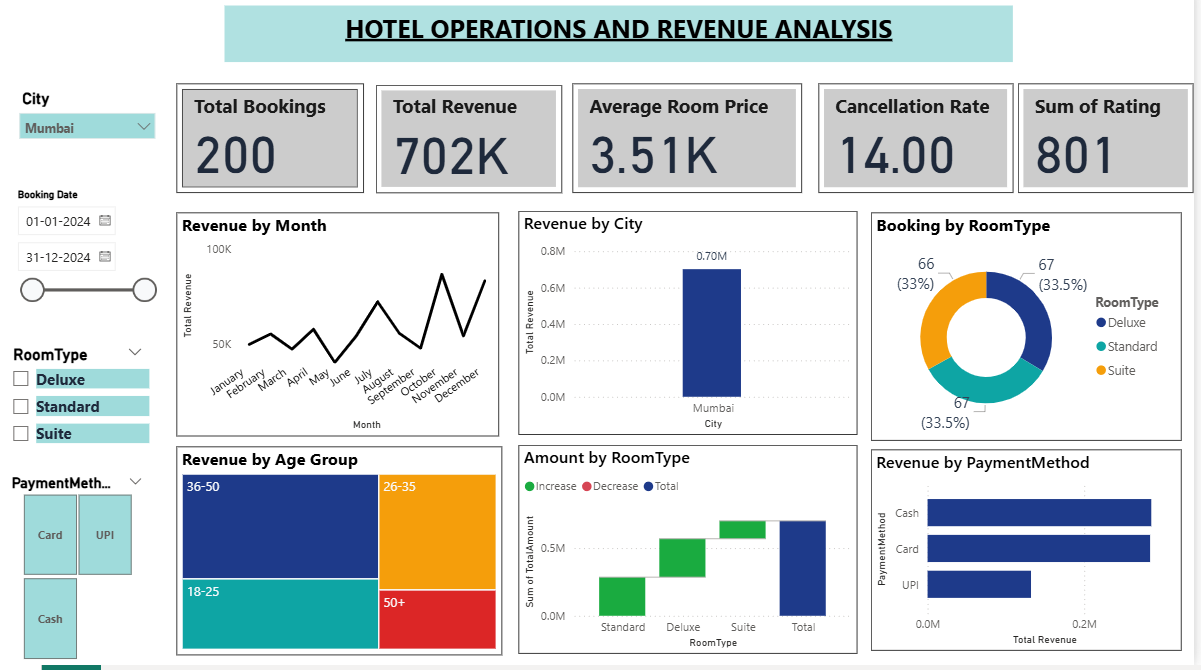

This screenshot's page, from the dashboard's own definition file:
{"tool":"powerbi","page":{"name":"Page 1","canvas":[1280,720],"ordinal":0},"visuals":[{"type":"cardVisual","fields":{"Data":["hoteldata.Total Bookings"]},"box":[202,103.4,198.8,116.1],"z":0},{"type":"cardVisual","fields":{"Data":["hoteldata.Total Revenue"]},"box":[413.6,105,197.2,114.5],"z":1000},{"type":"cardVisual","fields":{"Data":["hoteldata.Average Room Price"]},"box":[621.9,103.4,243.4,116.1],"z":2000},{"type":"cardVisual","fields":{"Data":["hoteldata.Cancellation Rate"]},"box":[882.8,103.4,206.8,116.1],"z":3000},{"type":"clusteredColumnChart","title":" Revenue by City","fields":{"Category":["hoteldata.City"],"Y":["hoteldata.Total Revenue"]},"box":[564.7,238.6,359.5,237],"z":4000},{"type":"donutChart","title":" Booking by RoomType","fields":{"Category":["hoteldata.RoomType"],"Y":["CountNonNull(hoteldata.BookingID)"]},"box":[938.5,240.2,329.3,241.8],"z":5000},{"type":"clusteredBarChart","title":"Revenue by PaymentMethod","fields":{"Category":["hoteldata.PaymentMethod"],"Y":["hoteldata.Total Revenue"]},"box":[938.5,491.5,329.3,213.1],"z":6000},{"type":"slicer","fields":{"Values":["hoteldata.RoomType"]},"box":[15.9,375.4,162.2,124.1],"z":7000},{"type":"slicer","fields":{"Values":["hoteldata.Booking Date"]},"box":[20.7,210,168.6,147.9],"z":8000},{"type":"slicer","fields":{"Values":["hoteldata.City"]},"box":[25.7,104.2,164.1,79.9],"z":9000},{"type":"slicer","fields":{"Values":["hoteldata.PaymentMethod"]},"box":[14.3,512.2,163.8,208.4],"z":10000},{"type":"treemap","title":" Revenue by Age Group","fields":{"Group":["hoteldata.Age Group"],"Values":["hoteldata.Total Revenue"]},"box":[202,488.3,345.2,221.1],"z":11000},{"type":"waterfallChart","title":"Amount by RoomType","fields":{"Category":["hoteldata.RoomType"],"Y":["Sum(hoteldata.TotalAmount)"]},"box":[564.7,486.7,359.5,221.1],"z":12000},{"type":"textbox","box":[252.6,20,836.2,59.9],"z":13000},{"type":"lineChart","title":"Revenue by Month","fields":{"Y":["hoteldata.Total Revenue"],"Category":["hoteldata.Booking Date.Variation.Date Hierarchy.Month"]},"box":[202,240.2,342,237],"z":14000},{"type":"cardVisual","fields":{"Data":["Sum(hoteldata.Rating)"]},"box":[1094.3,103.4,186.1,116.1],"z":15000}]}

Visuals, with their boxes in screenshot pixels (x1, y1, x2, y2), scaled from the page's 1280x720 canvas onto the 1201x670 screenshot:
cardVisual - hoteldata.Total Bookings: 190, 96, 376, 204
cardVisual - hoteldata.Total Revenue: 388, 98, 573, 204
cardVisual - hoteldata.Average Room Price: 584, 96, 812, 204
cardVisual - hoteldata.Cancellation Rate: 828, 96, 1022, 204
" Revenue by City" clusteredColumnChart: 530, 222, 867, 443
" Booking by RoomType" donutChart: 881, 224, 1190, 449
"Revenue by PaymentMethod" clusteredBarChart: 881, 457, 1190, 656
slicer - hoteldata.RoomType: 15, 349, 167, 465
slicer - hoteldata.Booking Date: 19, 195, 178, 333
slicer - hoteldata.City: 24, 97, 178, 171
slicer - hoteldata.PaymentMethod: 13, 477, 167, 669
" Revenue by Age Group" treemap: 190, 454, 513, 660
"Amount by RoomType" waterfallChart: 530, 453, 867, 659
textbox: 237, 19, 1022, 74
"Revenue by Month" lineChart: 190, 224, 510, 444
cardVisual - Sum(hoteldata.Rating): 1027, 96, 1200, 204
